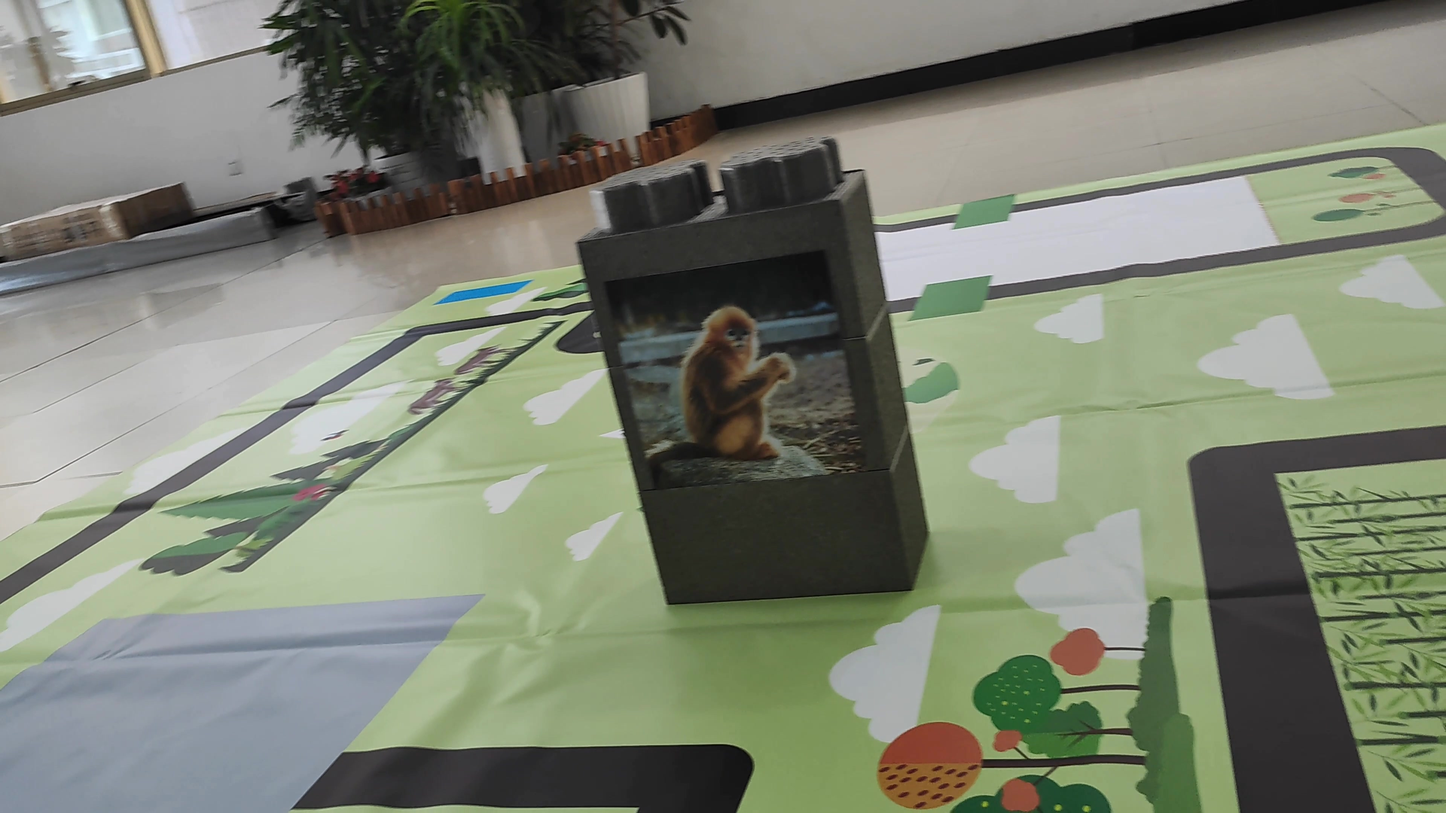monkey: (630, 294, 818, 506)
